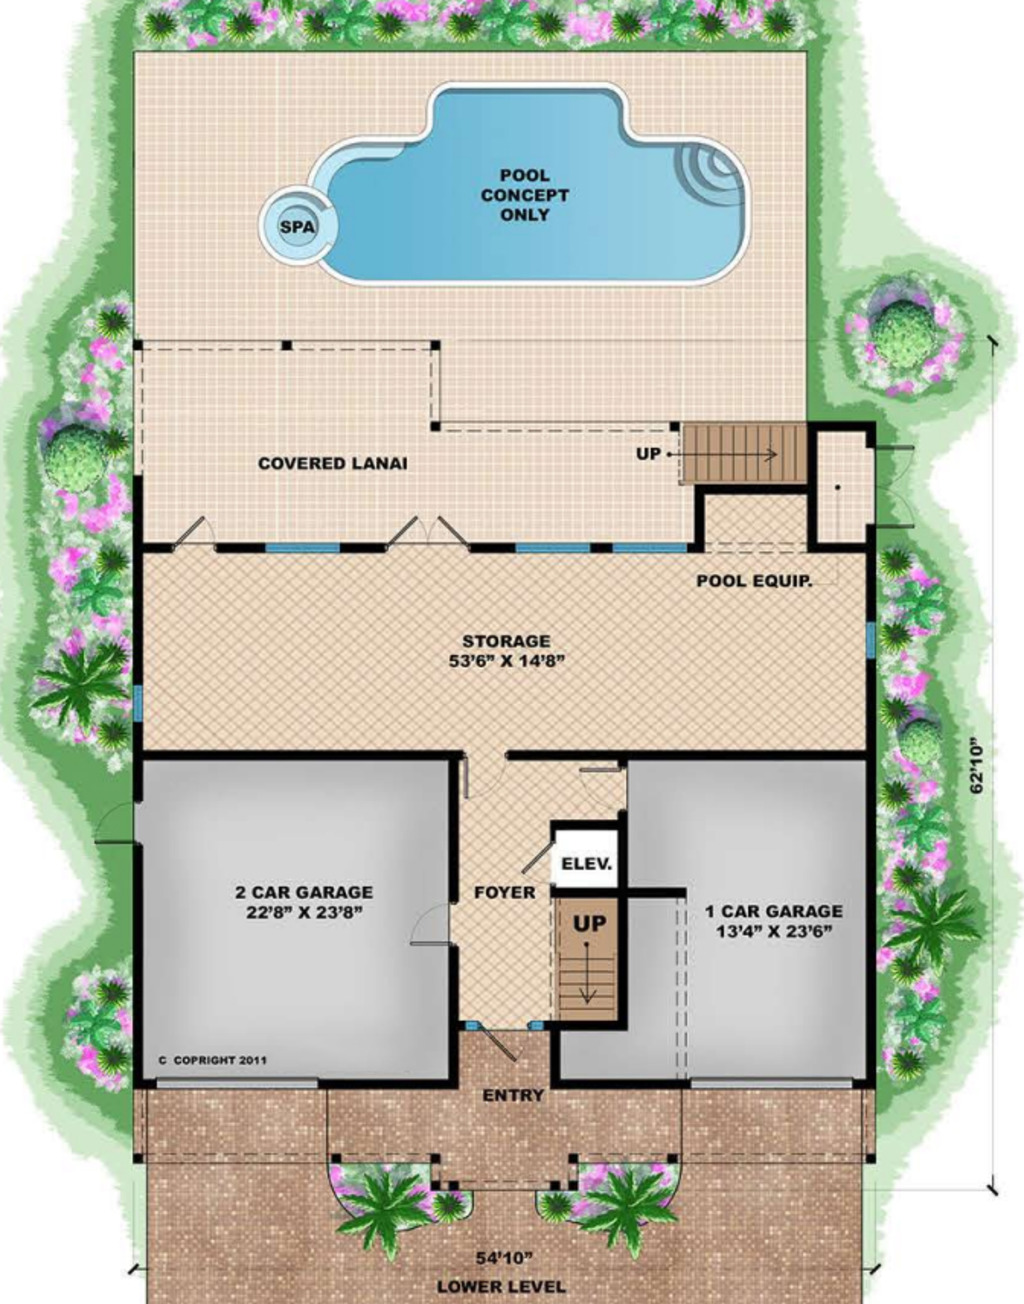door: (459, 747, 509, 804), (574, 760, 627, 812), (406, 904, 459, 954)
stairs: (667, 419, 816, 487), (556, 892, 619, 1032)
windows: (506, 536, 694, 558), (242, 535, 352, 558)
